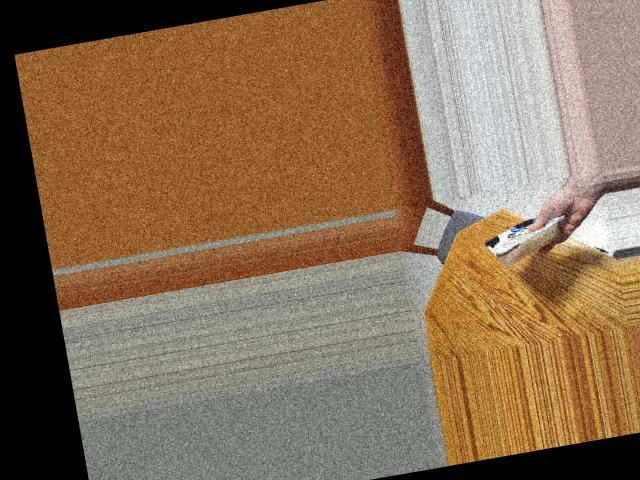cheese: (483, 200, 565, 272)
